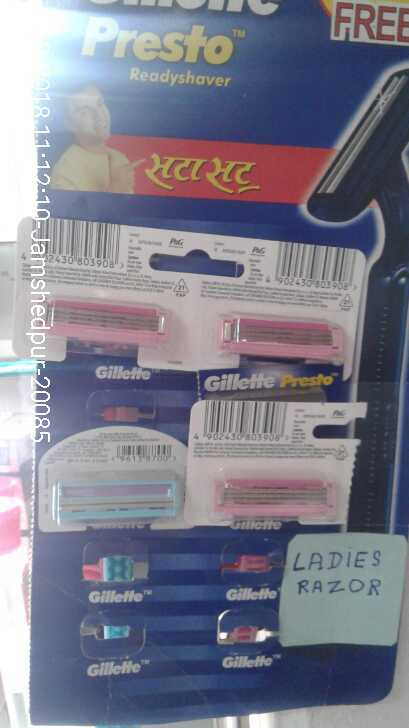gillette: (205, 306, 353, 375), (37, 295, 181, 360), (201, 468, 346, 519), (45, 474, 190, 525), (80, 539, 150, 605), (215, 537, 285, 603), (214, 604, 284, 670), (79, 611, 149, 677)
